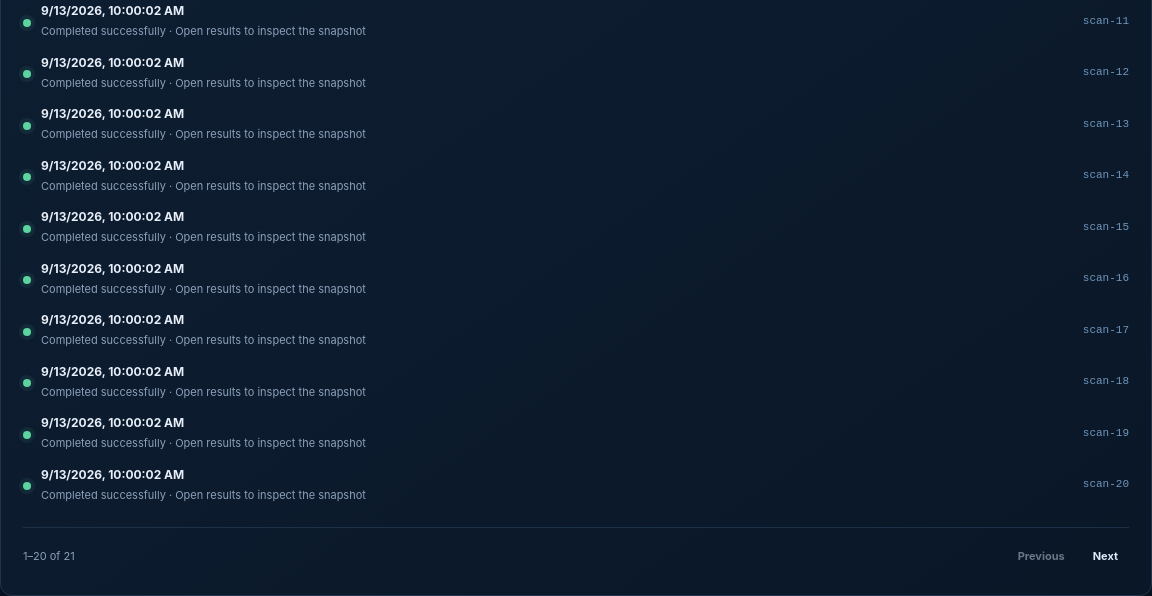
job surface overview › keeps Next steps on the newest scan when scan history is paged
The image size is (1152, 596).
(page scrolled)
Click the button "Next".
click(1105, 557)  # box [1082, 540, 1129, 573]
(page scrolled)
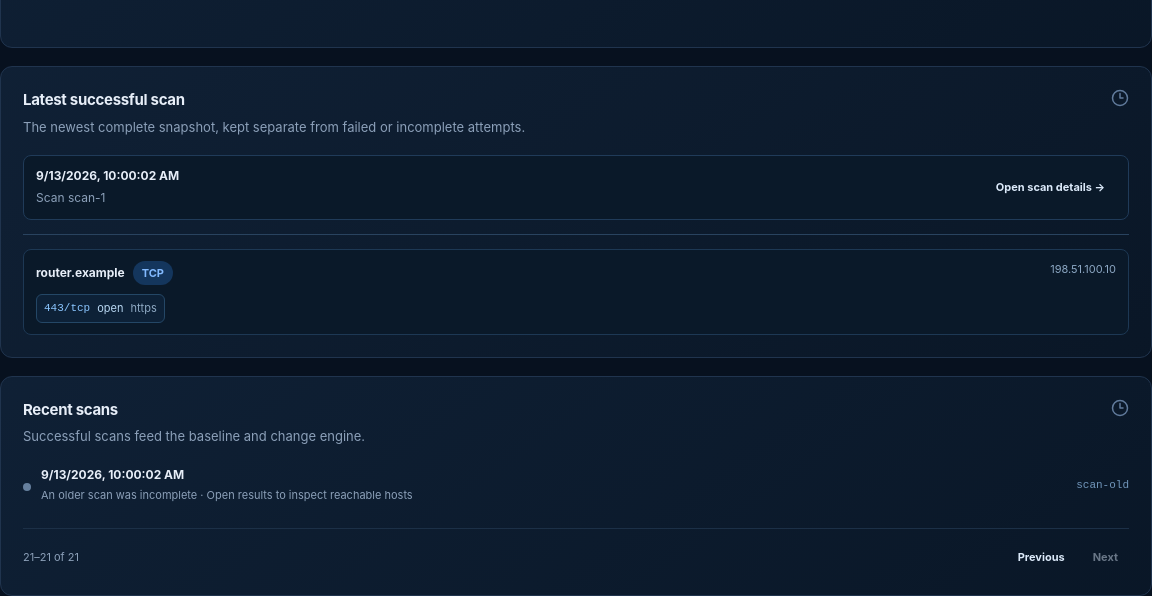
Expected: the button that starts with "9/13/2026, 10:00:02 AM" shows "An older scan was incomplete", [23, 464, 1129, 516]
